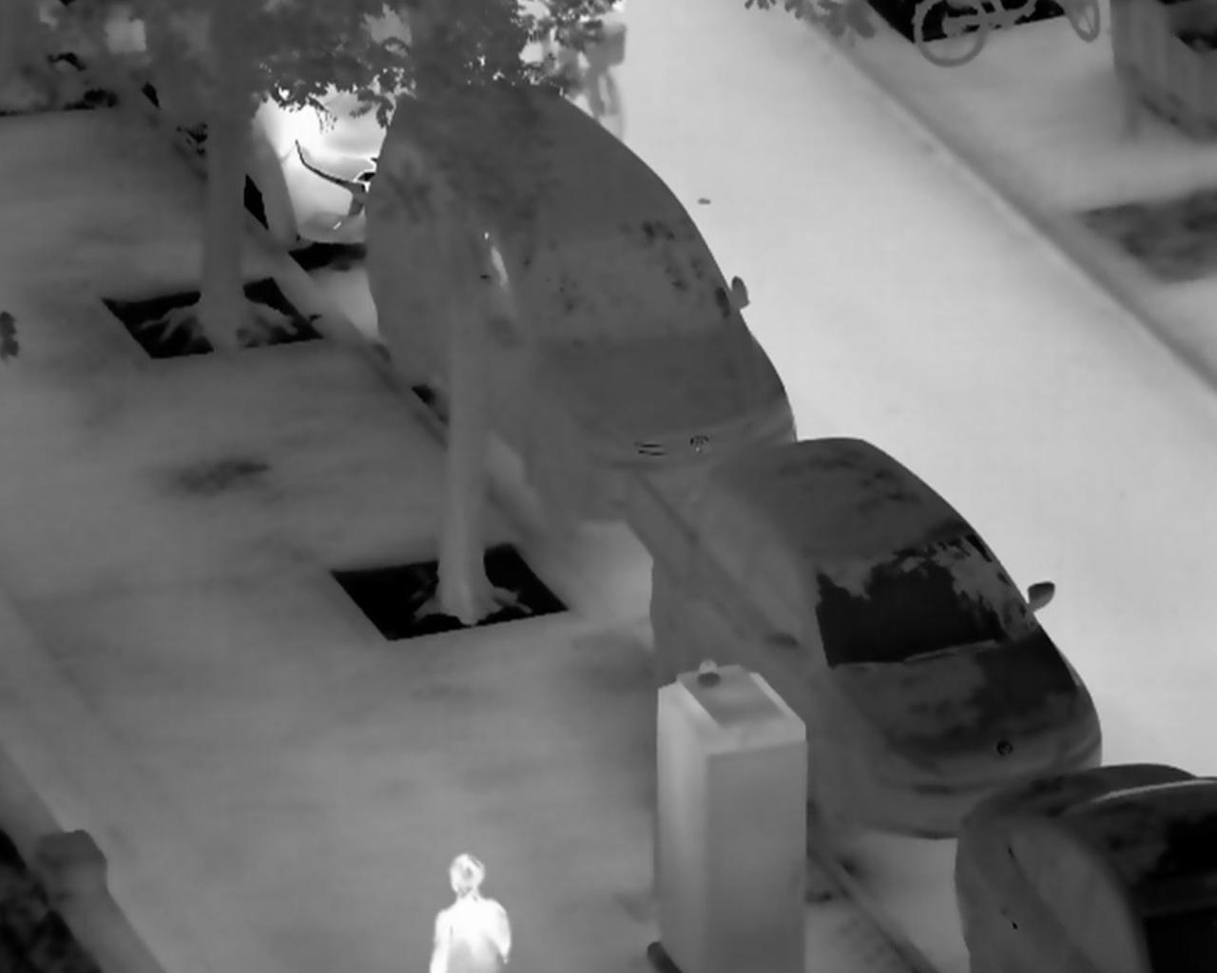person: (429, 851, 512, 973)
